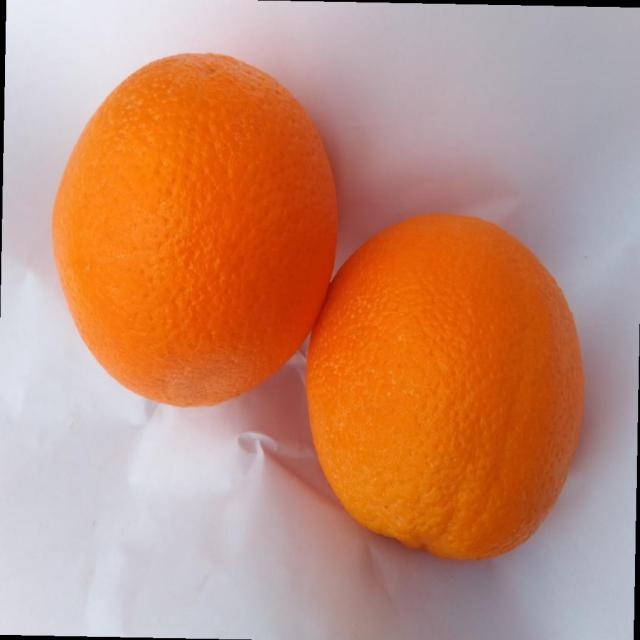agrume: (50, 50, 339, 408), (304, 211, 585, 561)
